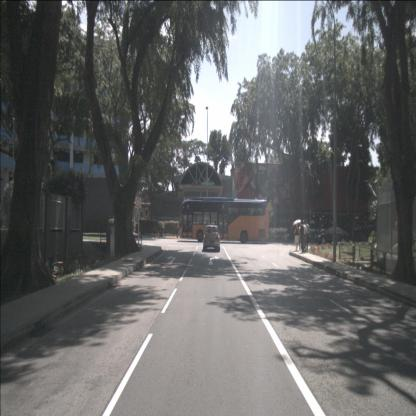human-pedestrian-adult: (293, 219, 301, 252), (304, 219, 310, 253), (300, 220, 306, 253), (298, 222, 302, 252), (176, 220, 180, 238), (161, 220, 165, 236)
vehicle-bicycle: (37, 253, 64, 279)
vehicle-bus-rigid: (179, 197, 268, 243)
vehicle-car: (316, 226, 350, 245), (203, 225, 220, 252)
